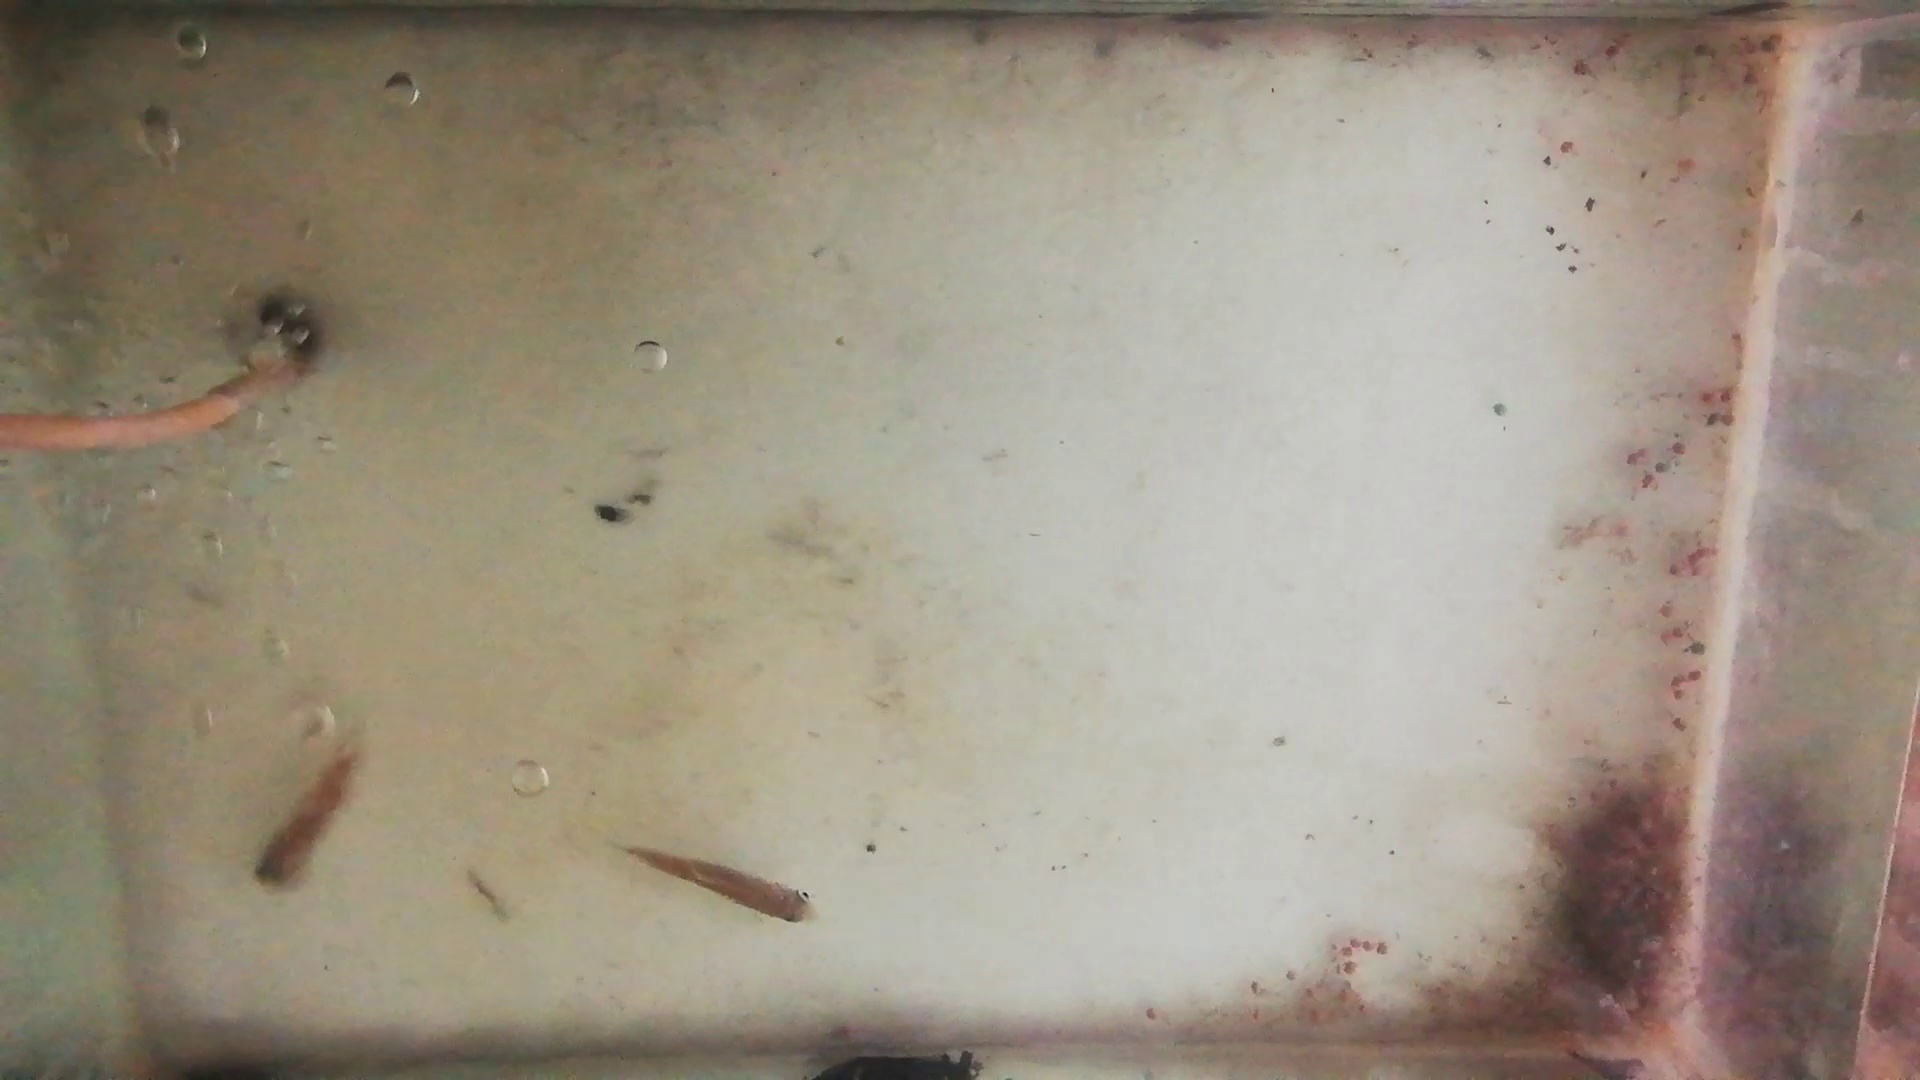fish: (255, 746, 371, 889), (621, 845, 818, 928)
